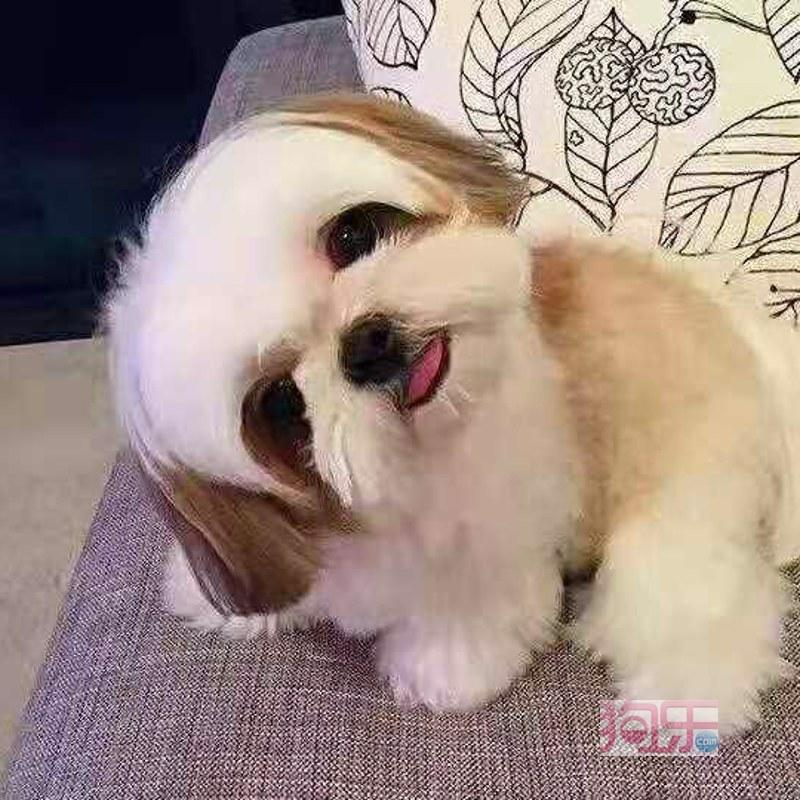dog: (92, 85, 792, 703)
